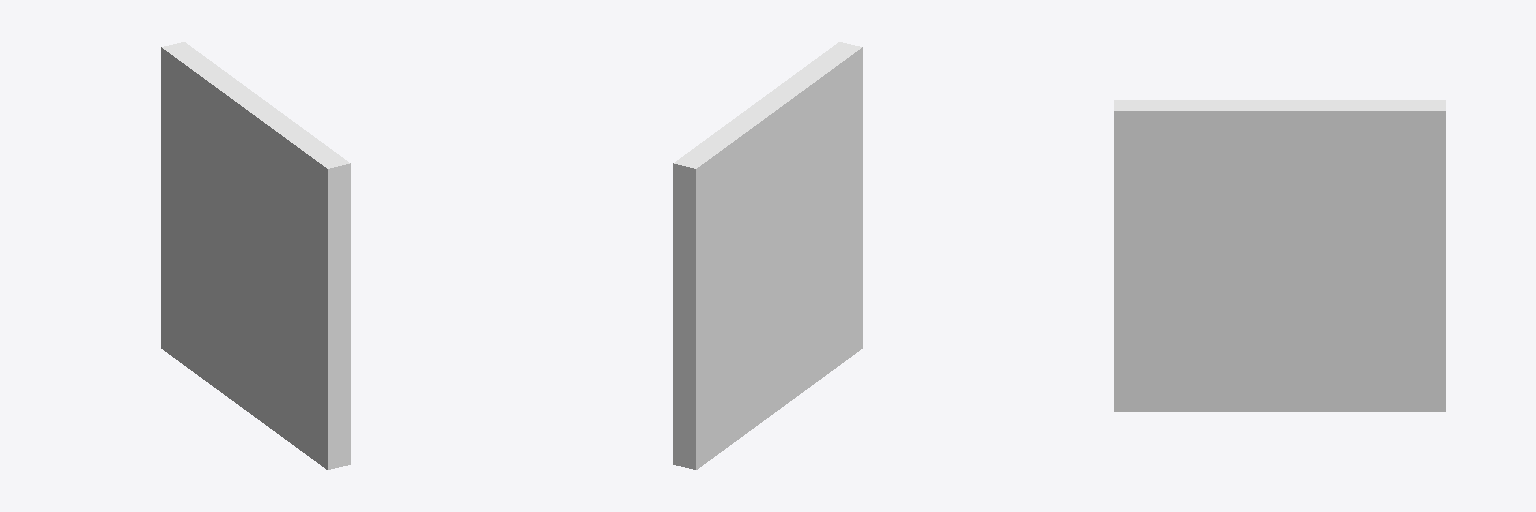
Rendered from WiresTask.obj.
3 renders of one model, left to right at view 1: azimuth 30°, elevation 25°; view 2: azimuth 150°, elevation 25°; view 3: azimuth 270°, elevation 25°, orthographic.
Visible parts, largest first — view 1: object 1; view 2: object 1; view 3: object 1.
Boxes of the visible parts, x1=… form: object 1: x1=161, y1=42, x2=350, y2=469; object 1: x1=673, y1=42, x2=862, y2=469; object 1: x1=1114, y1=100, x2=1445, y2=411.
Size of the model in its own units: 0.4 by 5 by 5.